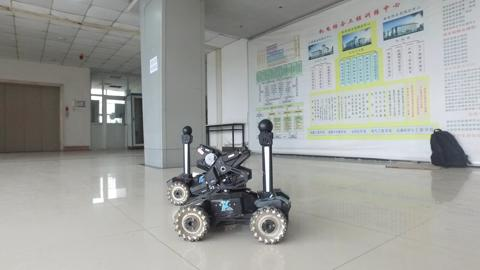chariot: (169, 122, 295, 245), (165, 125, 239, 206)
